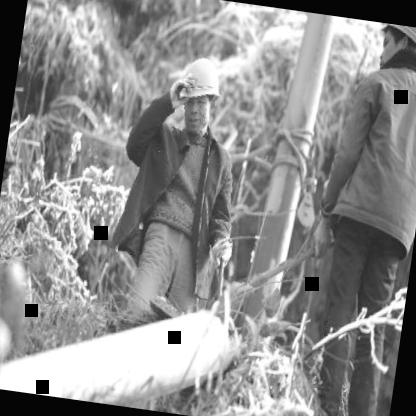helmet: (171, 49, 226, 139), (373, 22, 416, 80)
